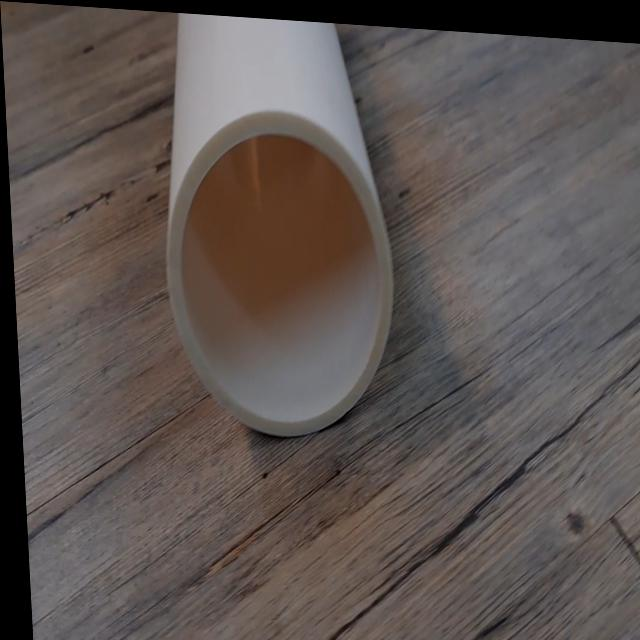CORAL: (142, 9, 424, 462)
